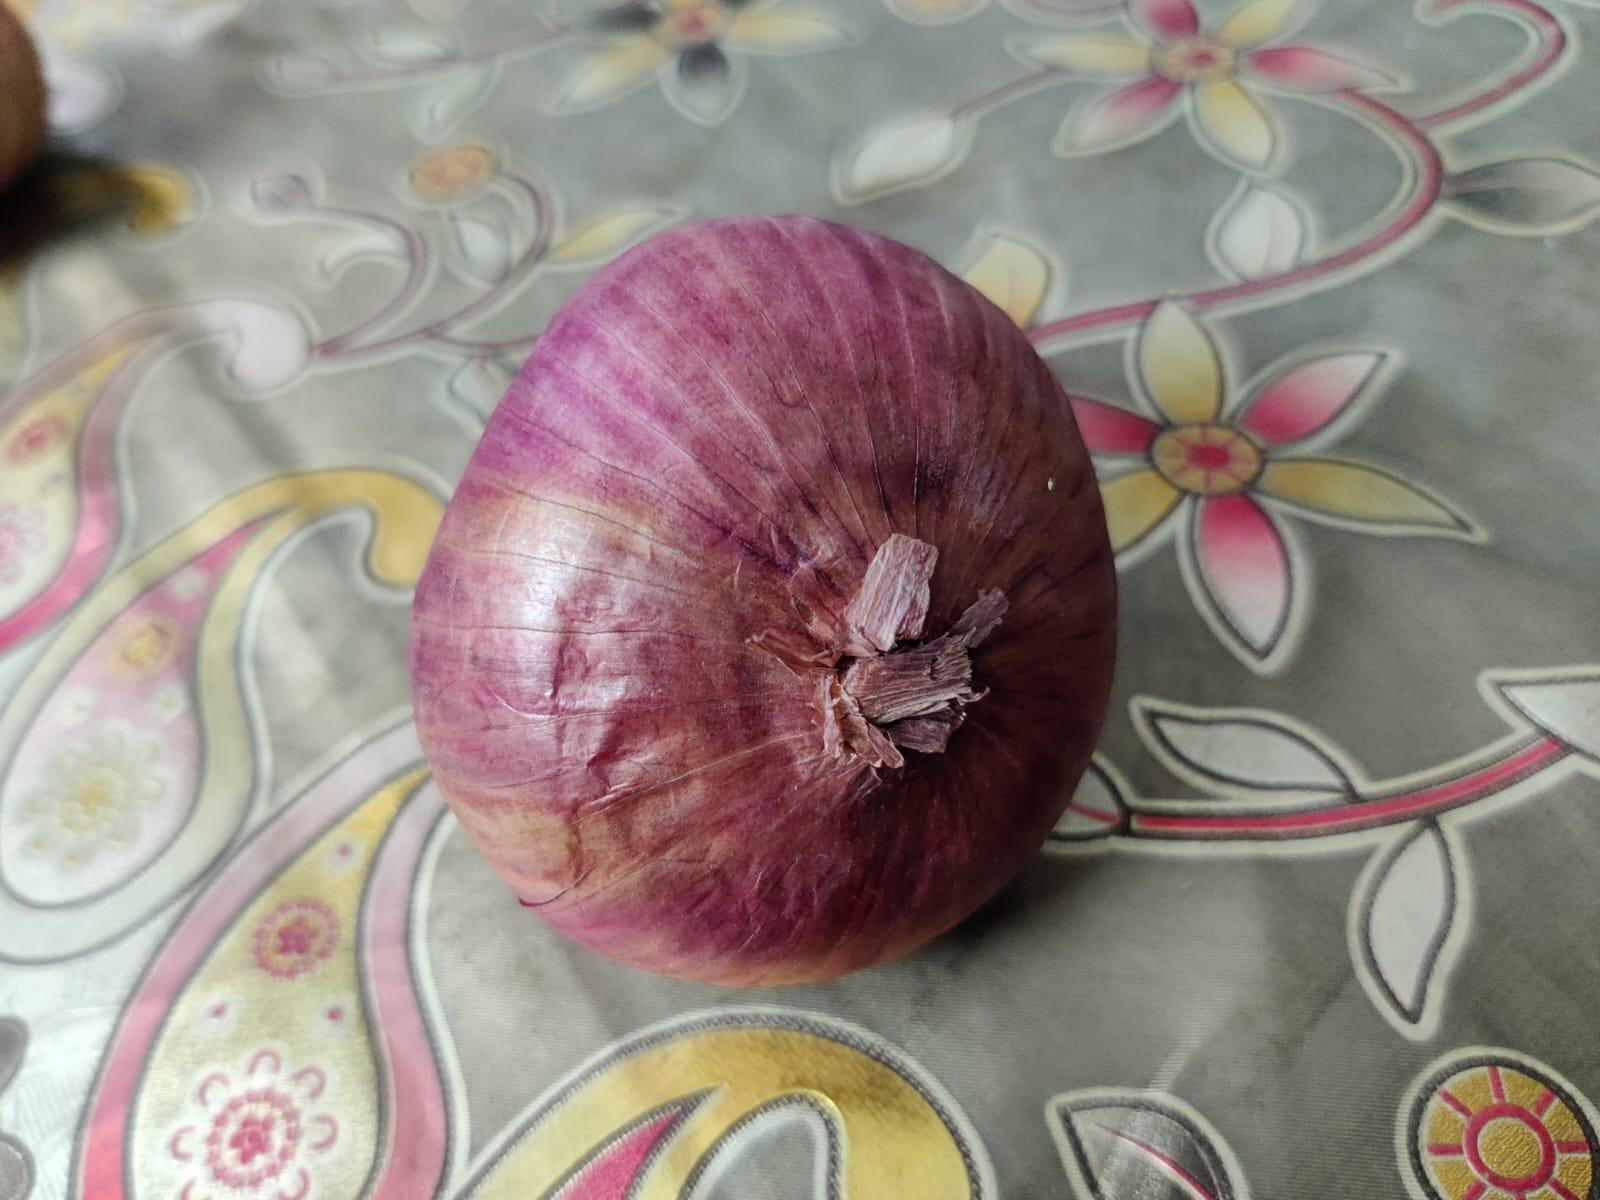non-mango: (401, 202, 1134, 995)
